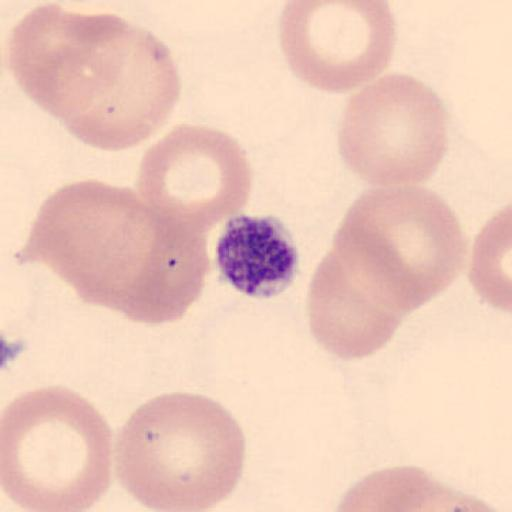Platelet: (213, 211, 302, 300)
RBC: (23, 178, 187, 321), (51, 183, 211, 325), (54, 12, 182, 152), (332, 183, 467, 313), (114, 389, 246, 512), (0, 385, 114, 512), (136, 122, 254, 239), (336, 72, 450, 190), (277, 0, 399, 95), (306, 246, 404, 361), (6, 2, 102, 118), (114, 221, 210, 325), (330, 464, 465, 512), (468, 202, 512, 314), (446, 492, 512, 511)
